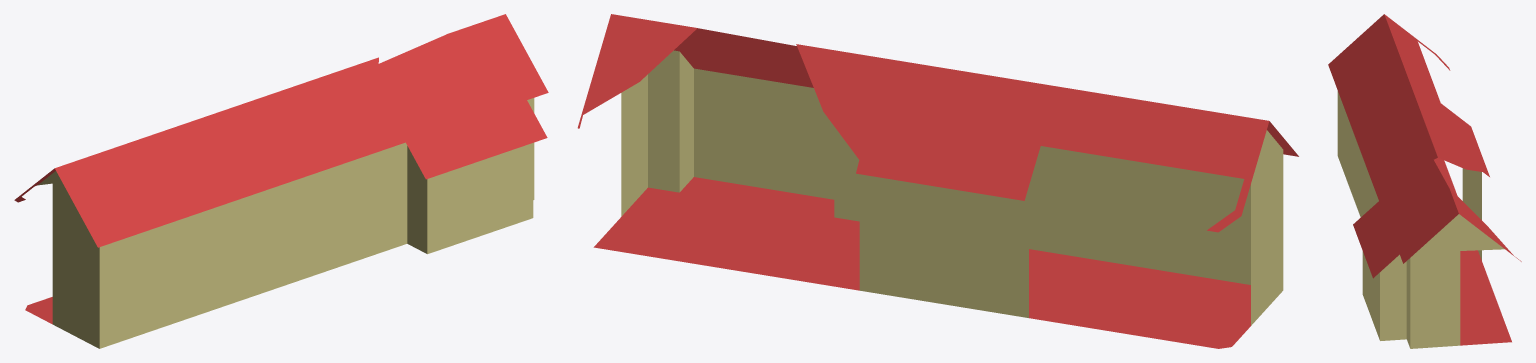
The picture shows the model from 3 angles, left to right: view 1: azimuth 30°, elevation 25°; view 2: azimuth 150°, elevation 25°; view 3: azimuth 270°, elevation 25°; orthographic projection. The views are drawn at different scales.
Bounding box in the file's own units: 43.59 × 17.24 × 13.29.
